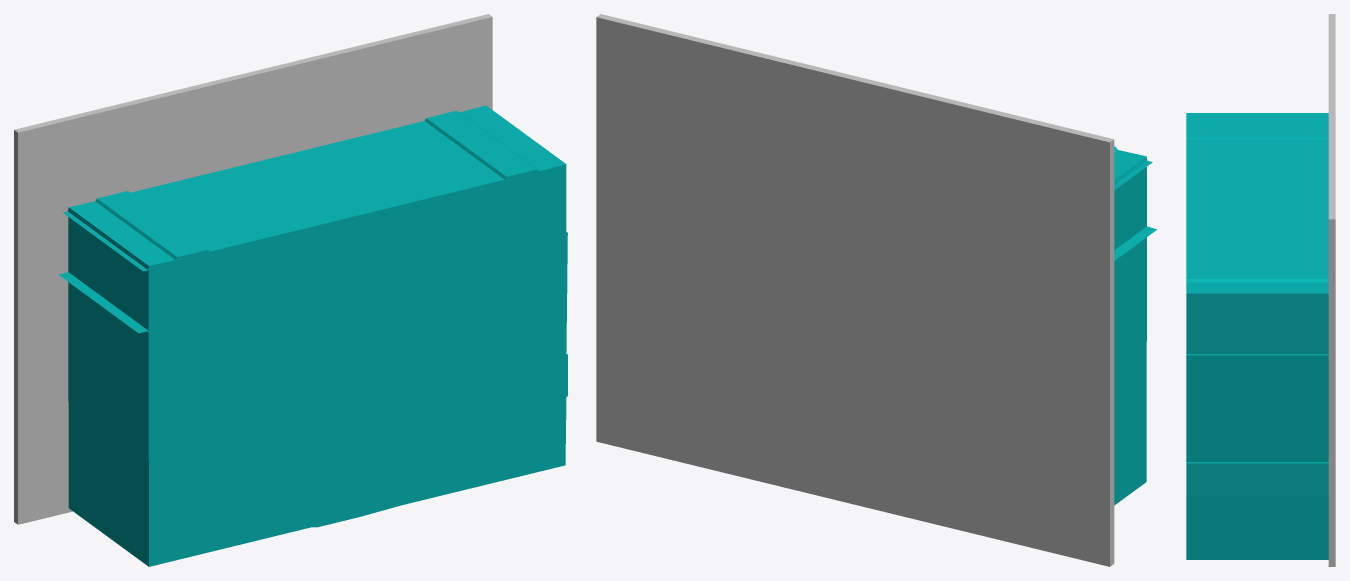
3 views of the same model, side by side, from view 1: azimuth 30°, elevation 25°; view 2: azimuth 150°, elevation 25°; view 3: azimuth 270°, elevation 25° (orthographic). The views are drawn at different scales.
Visible parts, largest first — view 1: world; view 2: world; view 3: world.
Part boxes in pixels (x1,y1,x2,y2): world: [14, 14, 567, 566]; world: [596, 14, 1157, 566]; world: [1186, 14, 1335, 566].
Bounding box in the file's own units: 10.23 × 8.08 × 3.15.
